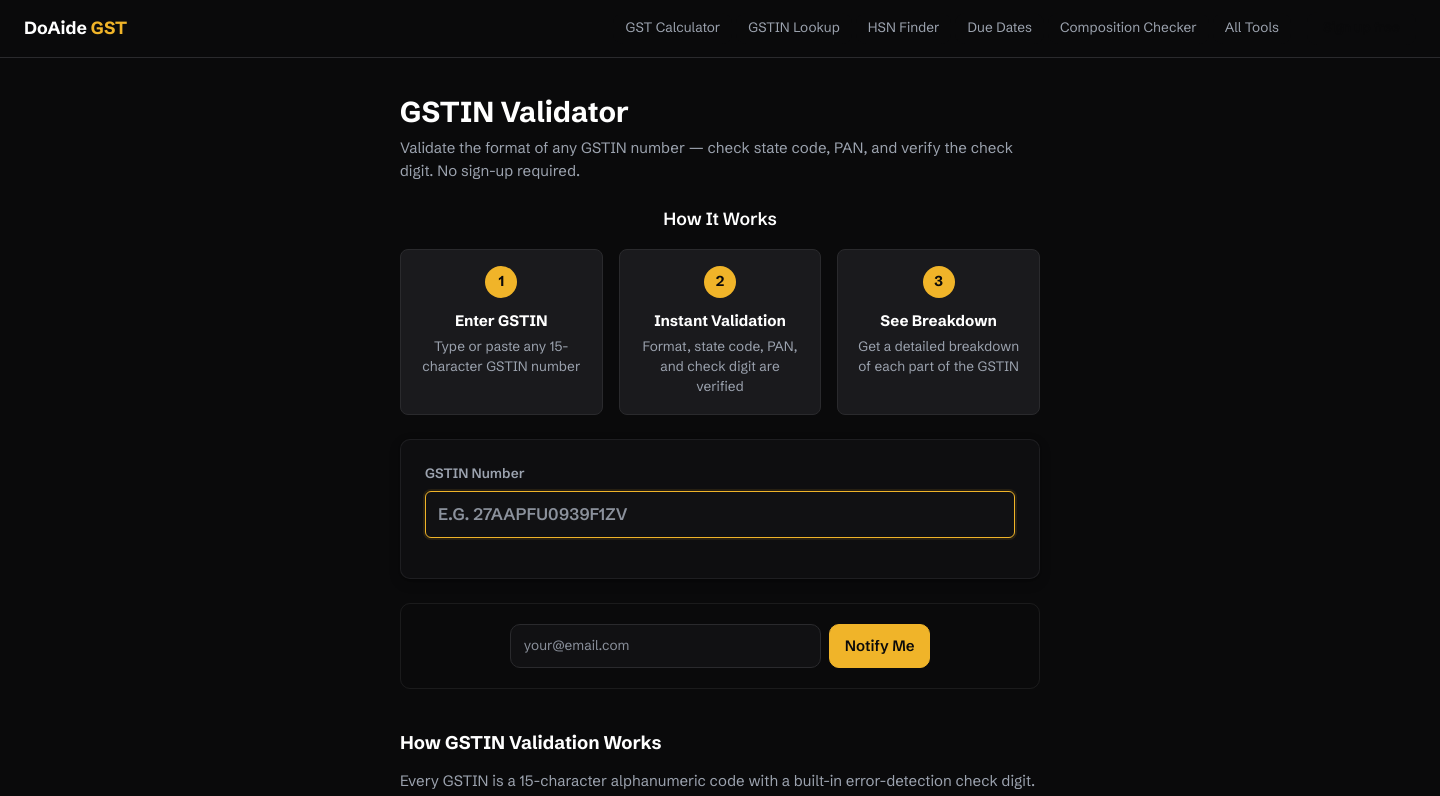
Test: GstinValidatorPage › validates a correct GSTIN
Type "27AAPFU0939F1ZV" into the field with placeholder "e.g. 27AAPFU0939F1ZV".
click(720, 514); type("27AAPFU0939F1ZV")  # box [425, 490, 1015, 538]
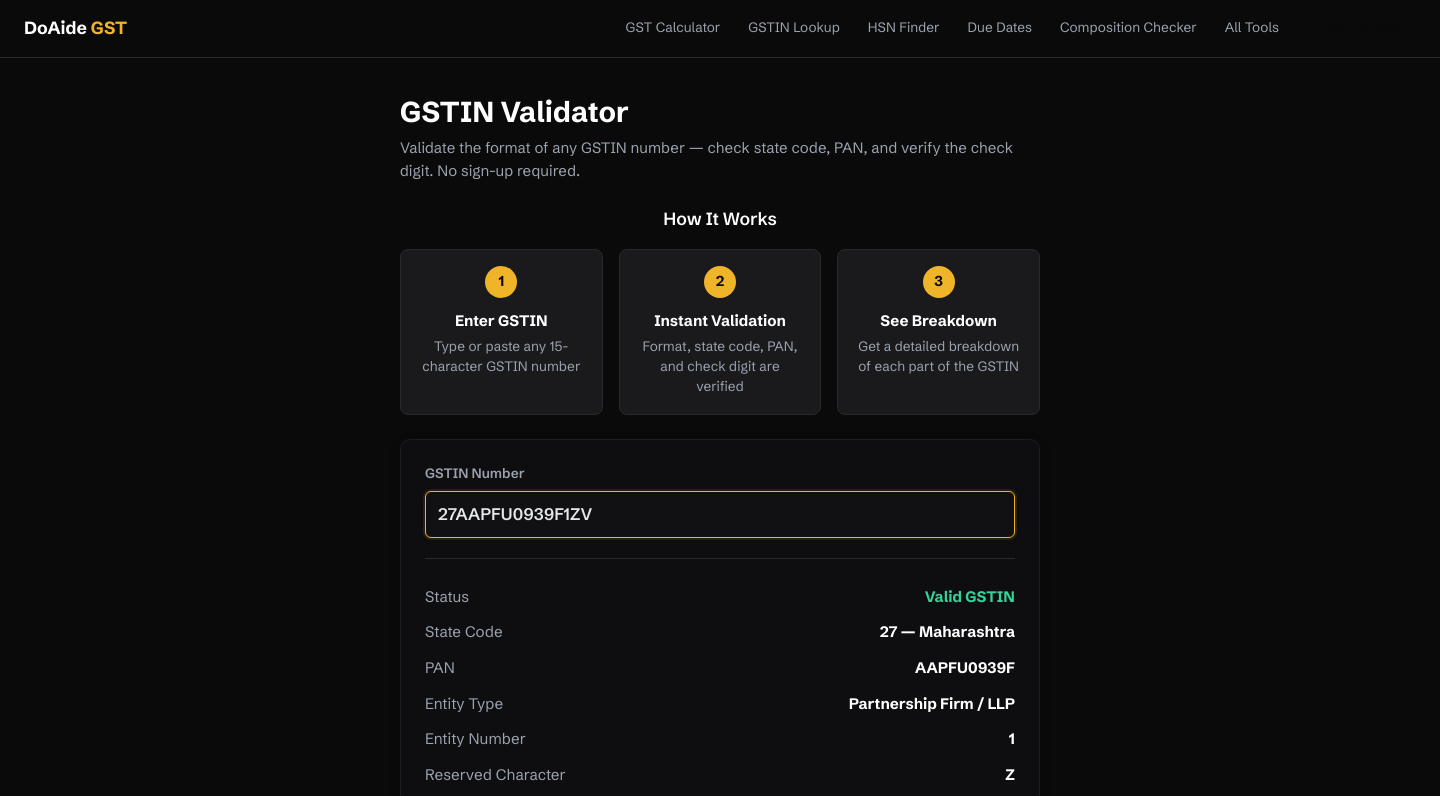
Expected: the text "Valid GSTIN" is shown, [925, 586, 1015, 609]
